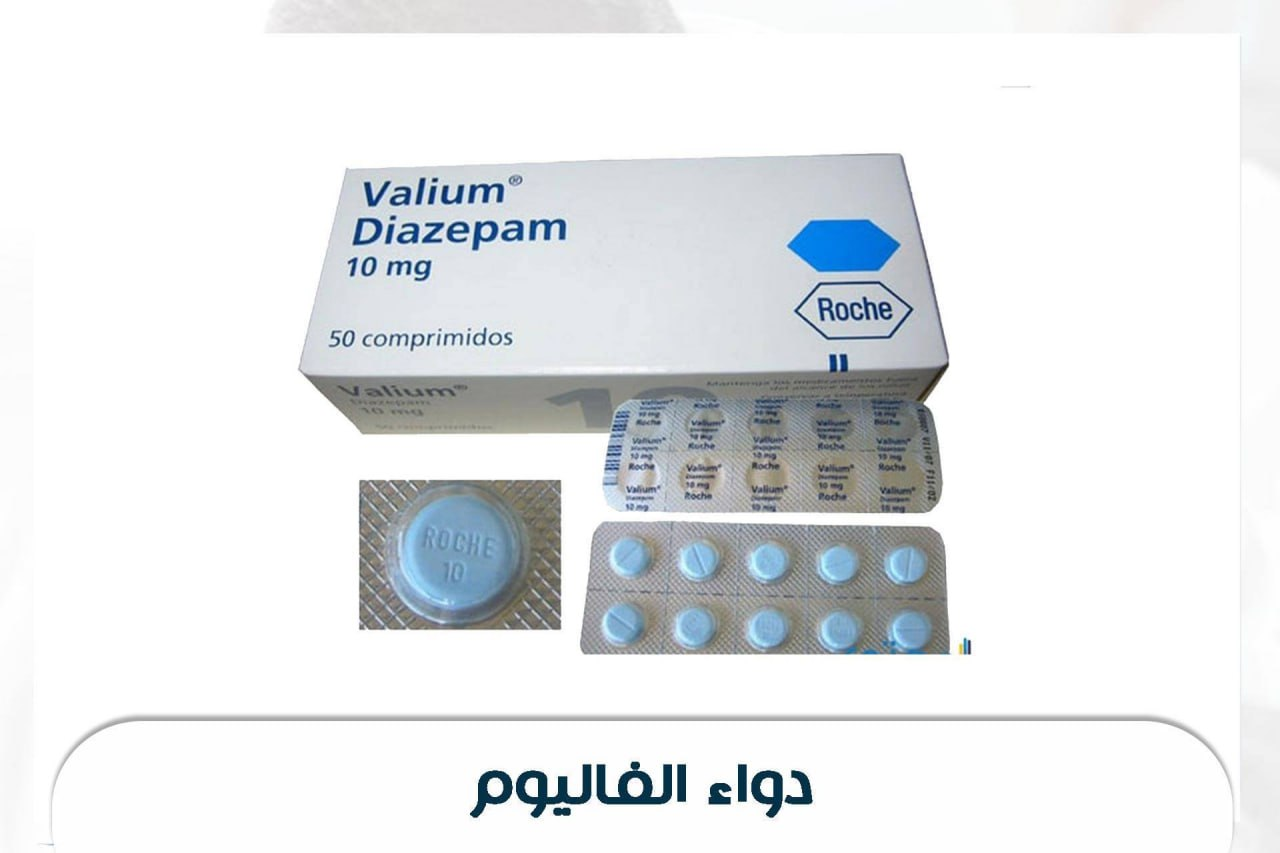Medicine: (292, 153, 952, 438), (592, 388, 948, 520)
